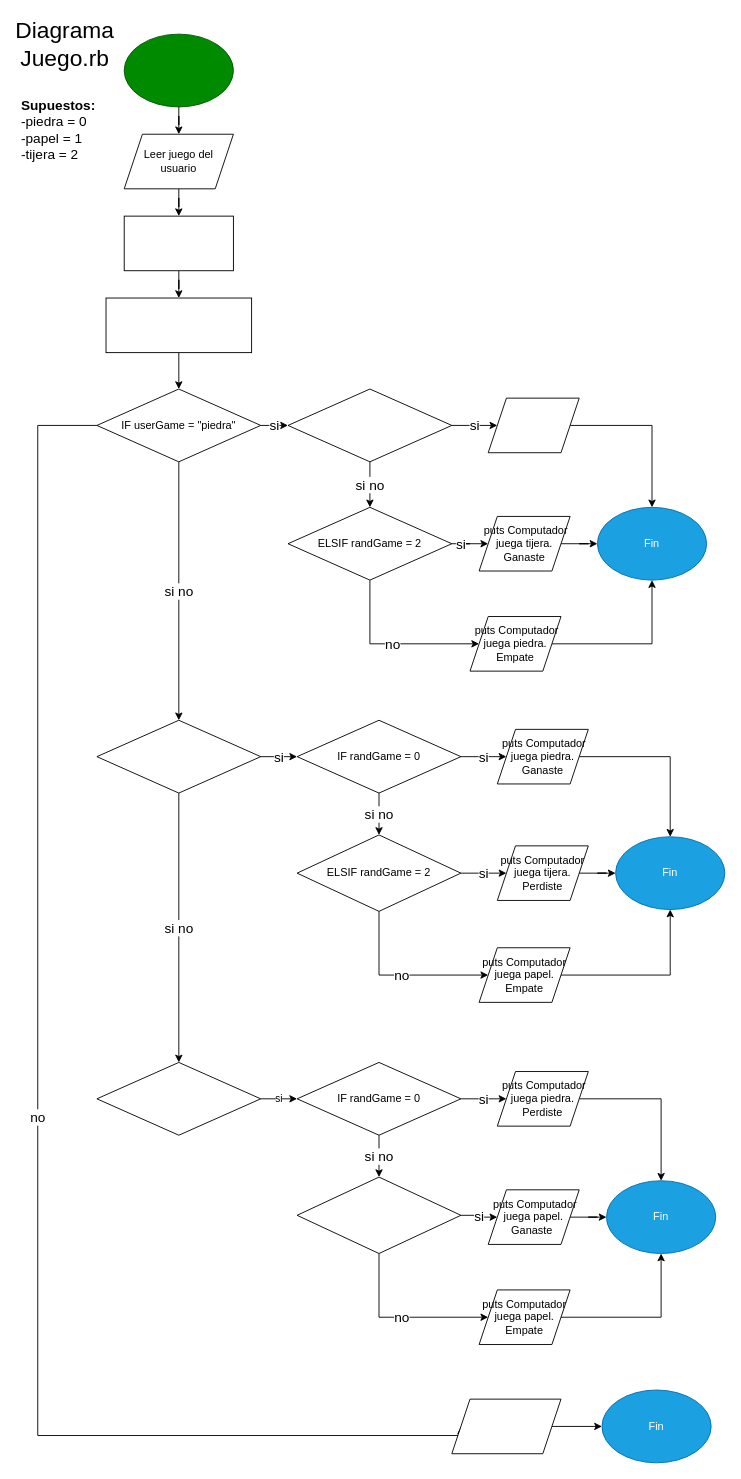
The diagram is 741 pixels wide and 1479 high, and some of its shapes have lost their labels. Each missing label, with the centre of its shape:
Crear juego del computador randGame = rand(0..2): pixel 178 325
ELSIF randGame = 1: pixel 378 1215
ELSIF userGame = "papel": pixel 178 756
ELSIF userGame = "tijera": pixel 178 1098
Guardar en variable userGame: pixel 178 243
IF randGame = 1: pixel 369 425
inicio: pixel 178 70
puts Argumentos invalidos.: pixel 506 1426
puts Computador juega papel. Perdiste: pixel 533 425
